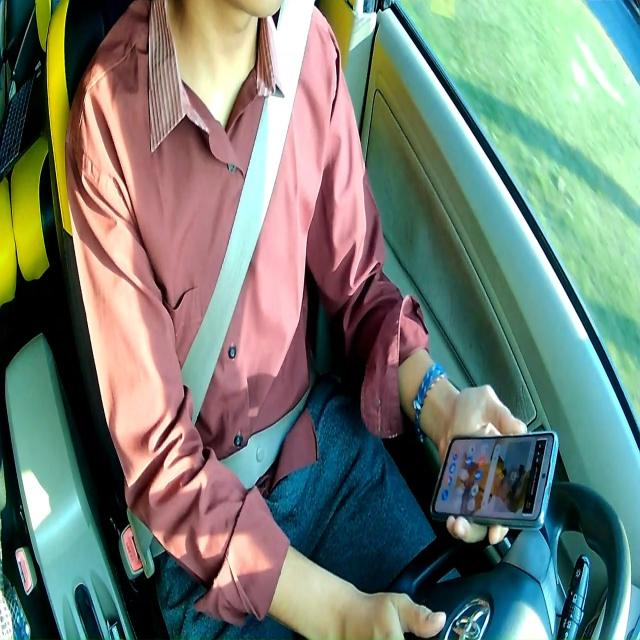phone: (427, 426, 561, 532)
